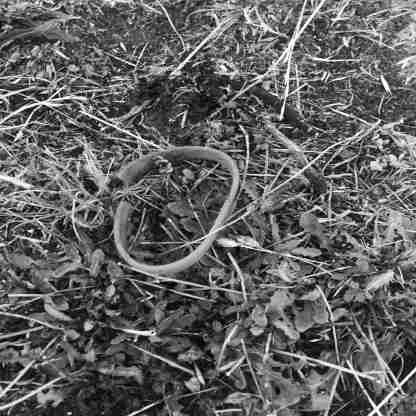plastic: (110, 141, 240, 273)
